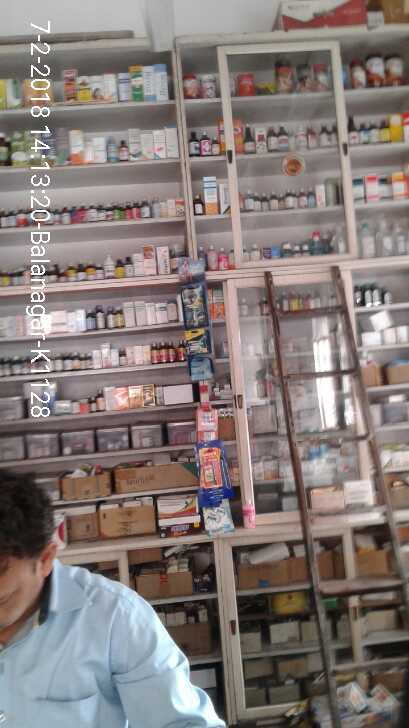reject: (131, 226, 204, 303)
